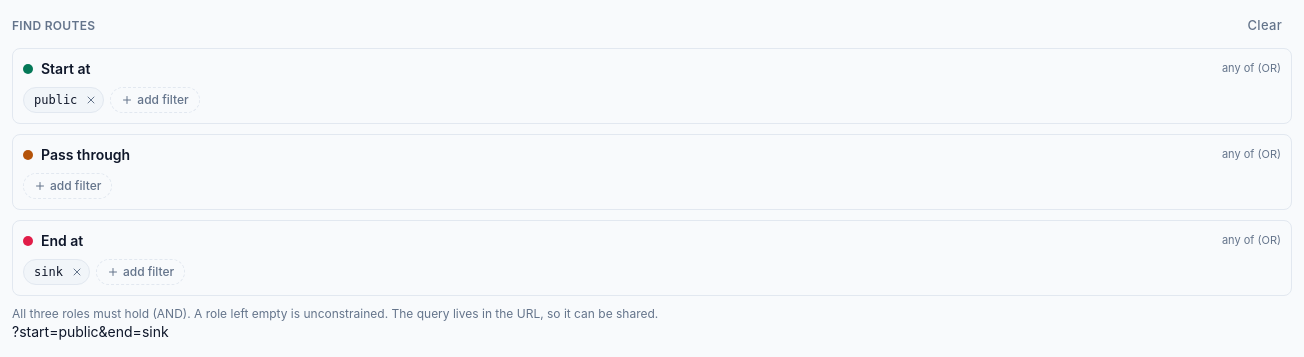
RouteQueryPanel › clears the whole query, and Clear is disabled when there is nothing to clear
Click the button "Clear" at (1265, 26), box [1238,12,1292,40]
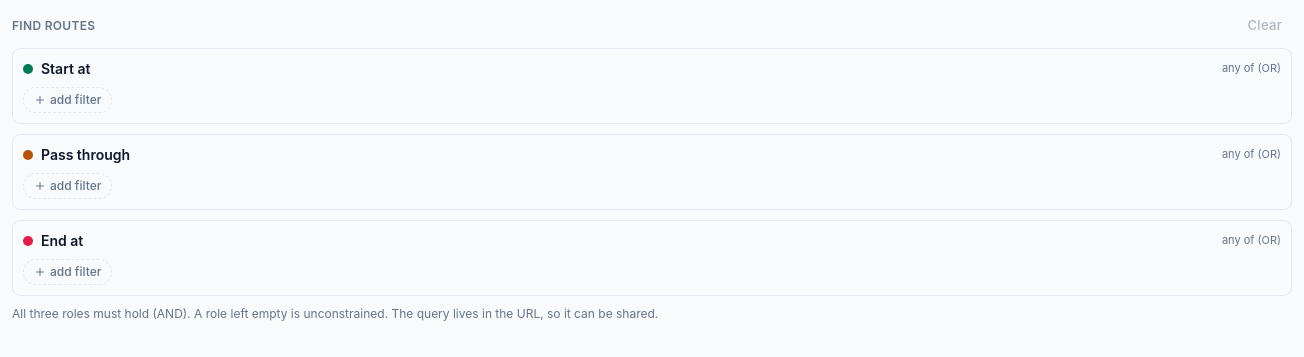
Result: the button "Clear" is disabled at [1238,12,1292,40]
